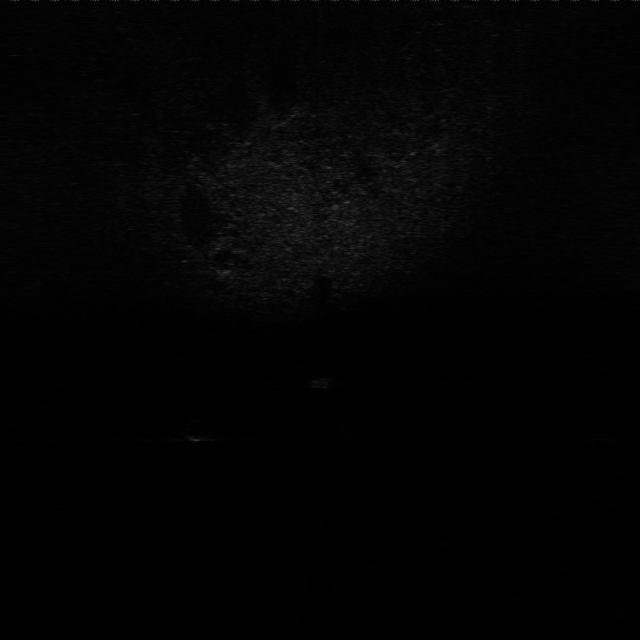ball: (180, 415, 218, 444)
cube: (303, 365, 339, 393)
